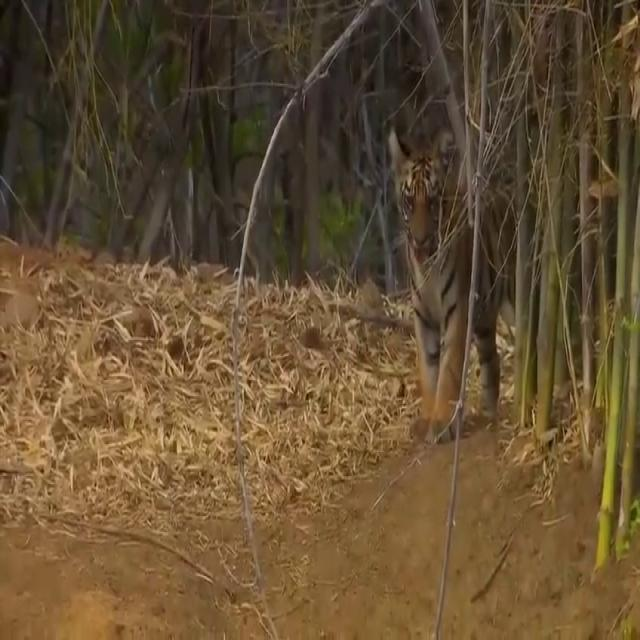tiger: (389, 124, 516, 447)
